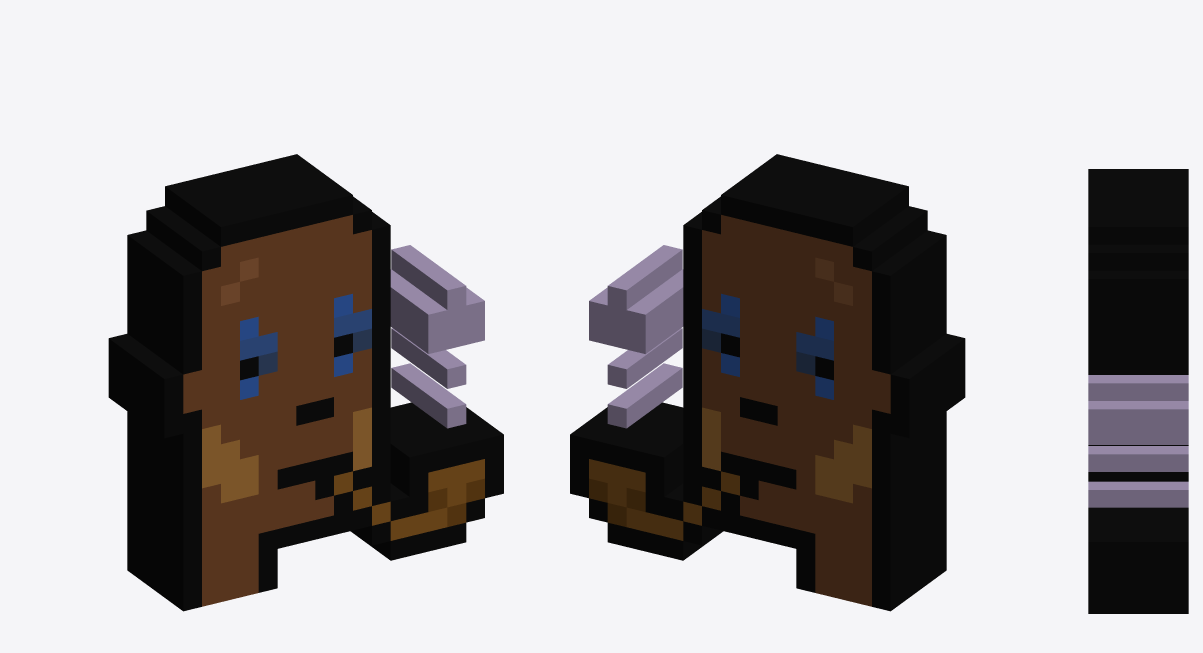
The model's file is ARPunk4741.glb.
The picture shows the model from 3 angles, left to right: view 1: azimuth 30°, elevation 25°; view 2: azimuth 150°, elevation 25°; view 3: azimuth 270°, elevation 25°; orthographic projection. The views are drawn at different scales.
Parts seen in each view (by area): view 1: Mesh_167.014, Mesh_266.014, Mesh_311.014, Mesh_391.014, Mesh_436.014, Mesh_411.014, Mesh_281.014, Mesh_215.014, Mesh_242.014, Mesh_218.014, Mesh_127.014, Mesh_103.014 (+23 smaller); view 2: Mesh_167.014, Mesh_266.014, Mesh_311.014, Mesh_391.014, Mesh_436.014, Mesh_411.014, Mesh_281.014, Mesh_215.014, Mesh_242.014, Mesh_218.014, Mesh_127.014, Mesh_103.014 (+23 smaller); view 3: Mesh_112.014, Mesh_167.014, Mesh_399.014, Mesh_429.014, Mesh_450.014, Mesh_215.014, Mesh_283.014, Mesh_311.014, Mesh_351.014, Mesh_64.014, Mesh_88.014, Mesh_259.014 (+18 smaller).
Boxes of the visible parts, x1,y1,x2,y2 form: Mesh_167.014: (391, 363, 466, 428); Mesh_266.014: (108, 333, 183, 398); Mesh_311.014: (391, 245, 466, 309); Mesh_391.014: (127, 230, 201, 295); Mesh_436.014: (165, 181, 239, 246); Mesh_411.014: (146, 206, 220, 271); Mesh_281.014: (390, 269, 447, 334); Mesh_215.014: (391, 328, 466, 388); Mesh_242.014: (108, 358, 183, 418); Mesh_218.014: (108, 378, 183, 438); Mesh_127.014: (127, 452, 201, 512); Mesh_103.014: (127, 472, 201, 532); Mesh_167.014: (607, 363, 682, 428); Mesh_266.014: (890, 333, 965, 398); Mesh_311.014: (607, 245, 682, 309); Mesh_391.014: (872, 230, 946, 295); Mesh_436.014: (834, 181, 908, 246); Mesh_411.014: (853, 206, 927, 271); Mesh_281.014: (626, 269, 683, 334); Mesh_215.014: (607, 328, 682, 388); Mesh_242.014: (890, 358, 965, 418); Mesh_218.014: (890, 378, 965, 438); Mesh_127.014: (872, 452, 946, 512); Mesh_103.014: (872, 472, 946, 532); Mesh_112.014: (1088, 533, 1188, 559); Mesh_167.014: (1088, 481, 1188, 507); Mesh_399.014: (1088, 270, 1188, 296); Mesh_429.014: (1088, 244, 1188, 270); Mesh_450.014: (1088, 218, 1188, 244); Mesh_215.014: (1088, 446, 1188, 471); Mesh_283.014: (1088, 401, 1188, 426); Mesh_311.014: (1088, 375, 1188, 400); Mesh_351.014: (1088, 314, 1188, 332); Mesh_64.014: (1088, 577, 1188, 595); Mesh_88.014: (1088, 559, 1188, 577); Mesh_259.014: (1088, 427, 1188, 444).
Bounding box in the file's own units: 24 × 24 × 5.13.
1 material, 1 textured.
